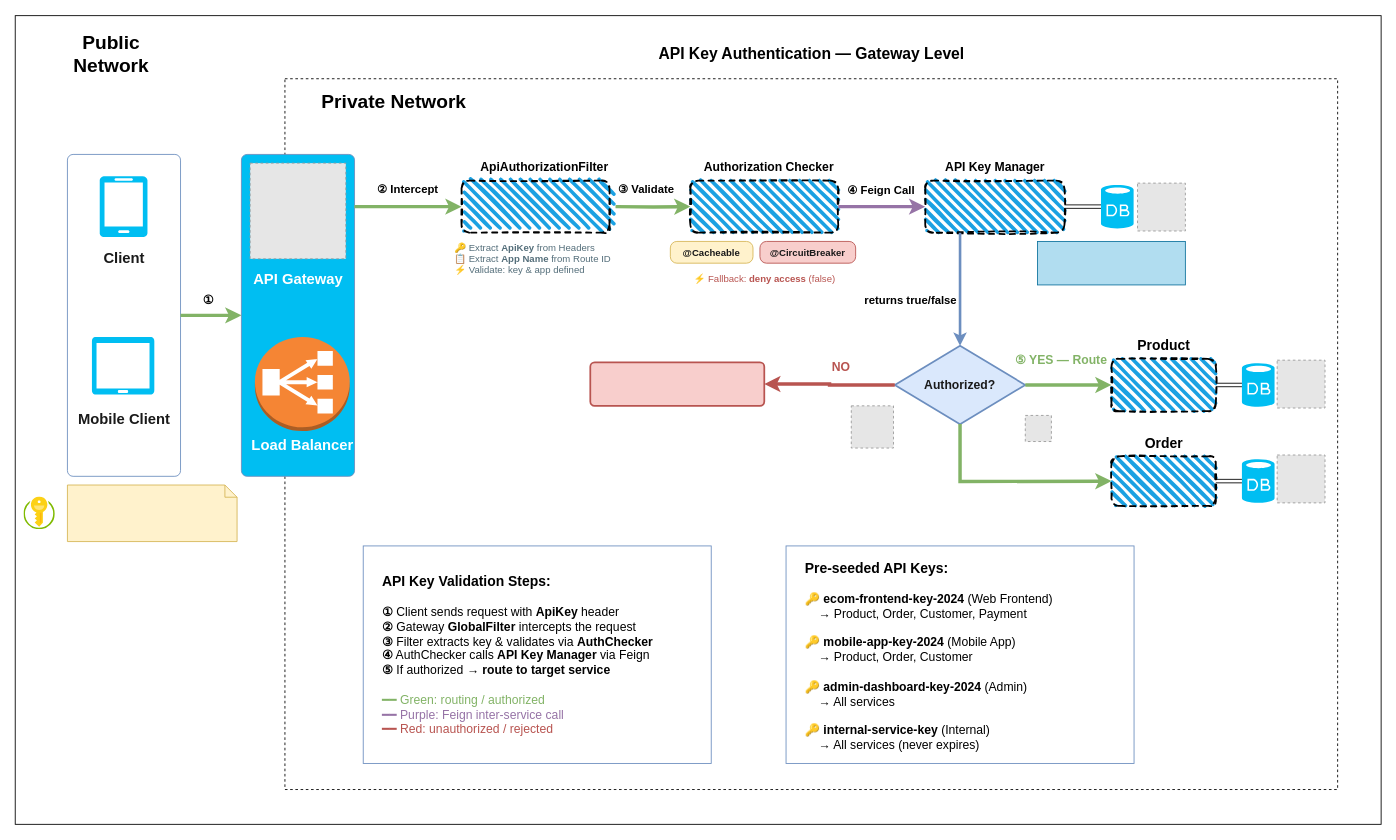
The diagram is 1396 pixels wide and 840 high, and some of its shapes have lost their labels. Grey dashed boxes stand in for pictures. Each missing label, with the box of its shape:
HTTP Request: GET /api/v1/products/list Header: ApiKey: ecom-frontend-key-2024: (67, 484, 237, 542)
✅ Key enabled & approved ✅ App enabled & approved ✅ Not revoked & not expired: (1037, 241, 1185, 285)
🚫 401 Unauthorized: (589, 361, 765, 406)
